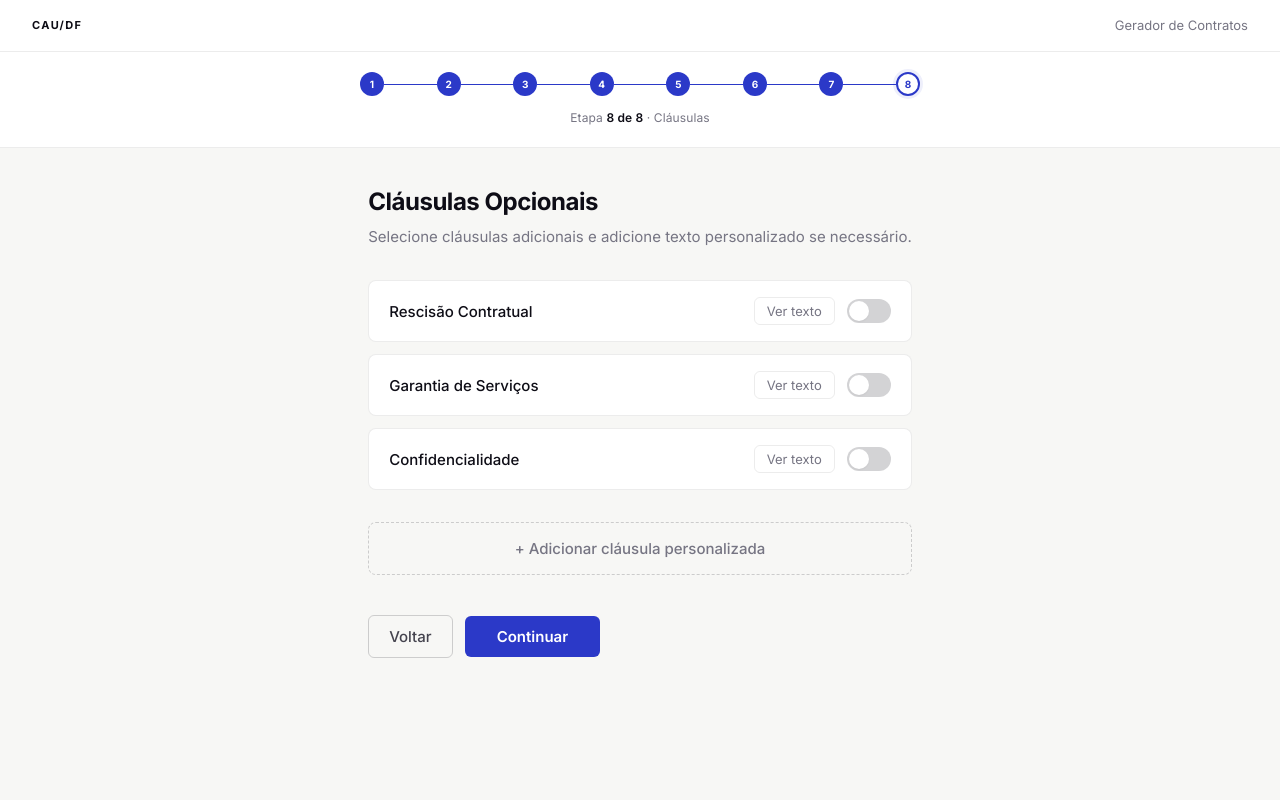
OptionalClausesPage › 7. "Ver texto" expands accordion (aria-expanded=true)
The width and height of the screenshot is (1280, 800).
Check: the text "Rescisão Contratual" is shown, box [389,302,533,321]
Click the button "Ver texto" in the row of "Rescisão Contratual".
click(794, 311)  # box [754,297,835,325]
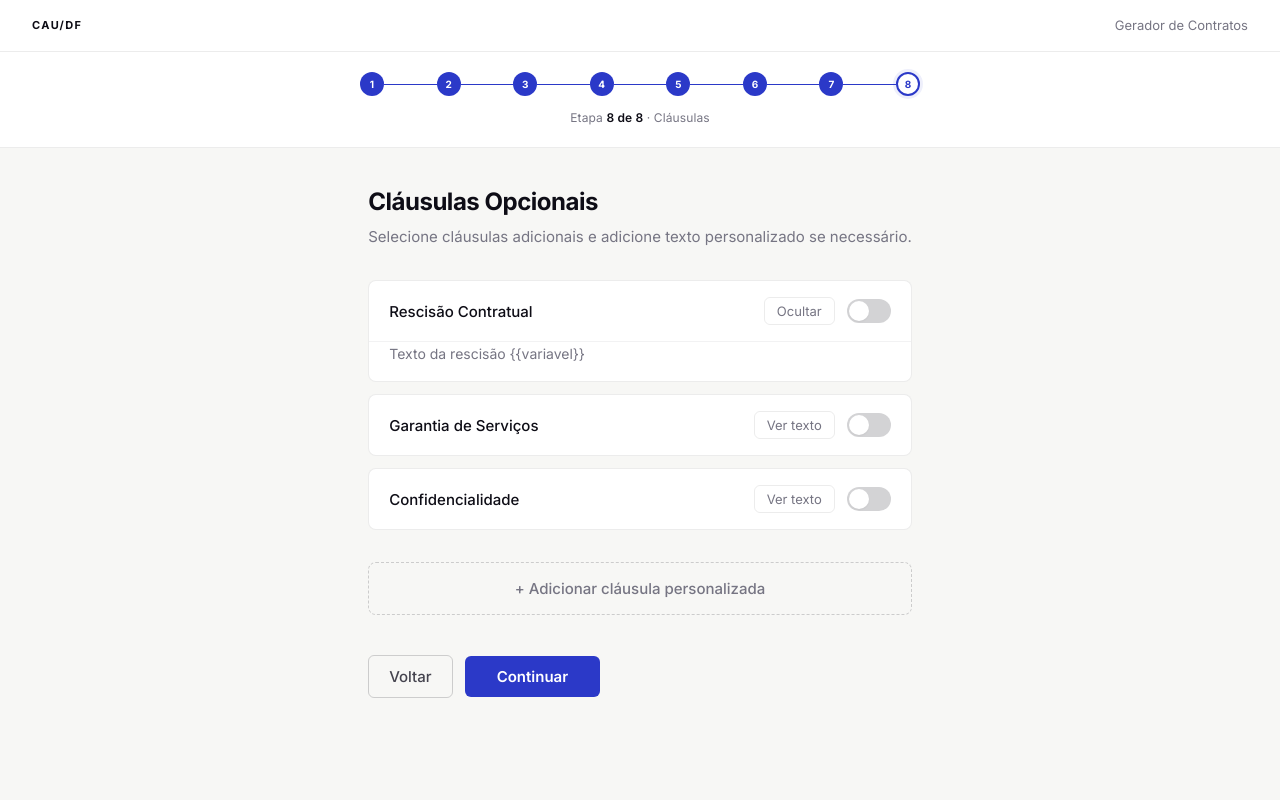
Check: the button named "ver texto" is expanded, box [764,297,835,325]
Check: the text "Texto da rescisão {{variavel}}" is shown, box [369,341,911,381]
